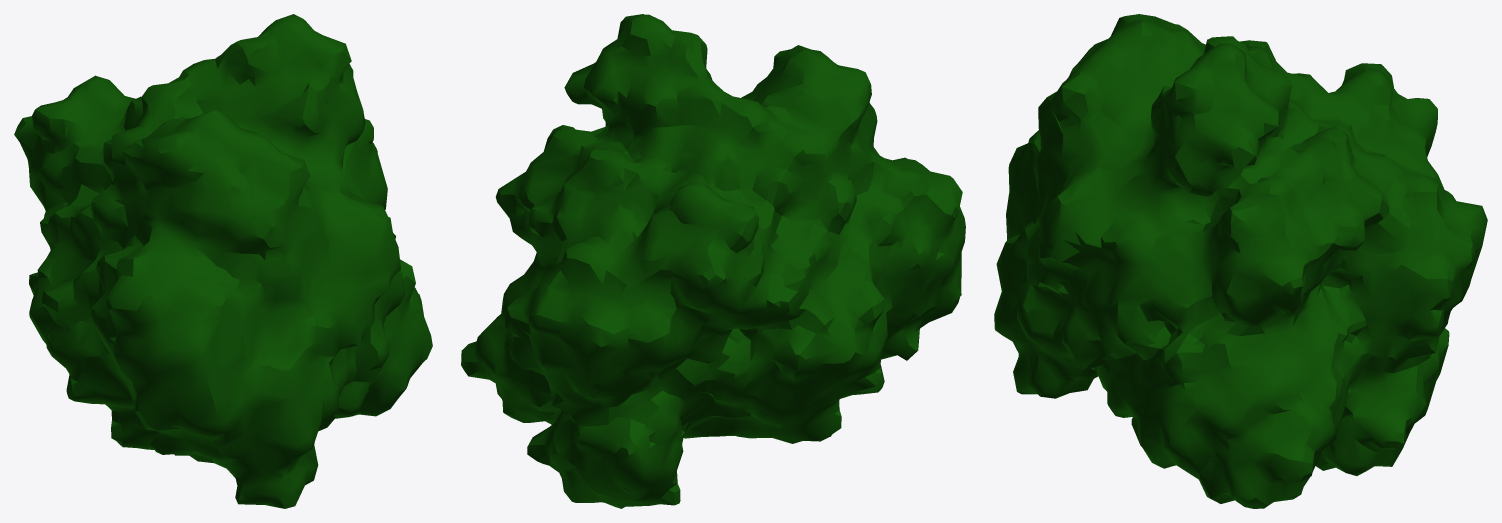
File: tree3.fbx
The picture shows the model from 3 angles, left to right: view 1: azimuth 30°, elevation 25°; view 2: azimuth 150°, elevation 25°; view 3: azimuth 270°, elevation 25°; orthographic projection.
Visible parts, largest first — view 1: simplified; view 2: simplified; view 3: simplified.
Part boxes in pixels (box(x1,y1,x2,y2)): simplified: box(14, 14, 432, 508); simplified: box(461, 14, 965, 508); simplified: box(994, 14, 1487, 508).
Size of the model in its own units: 446 by 469 by 480.
